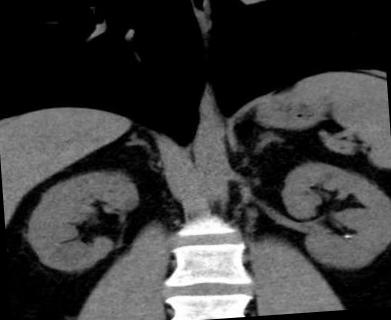Tas_Var: (343, 233, 351, 240)
